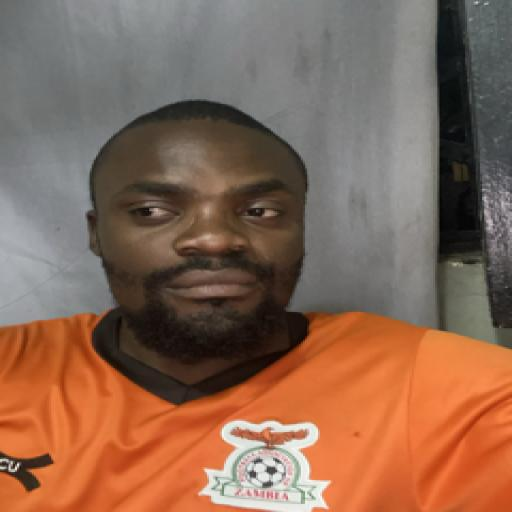JEANLUC: (76, 83, 326, 370)
